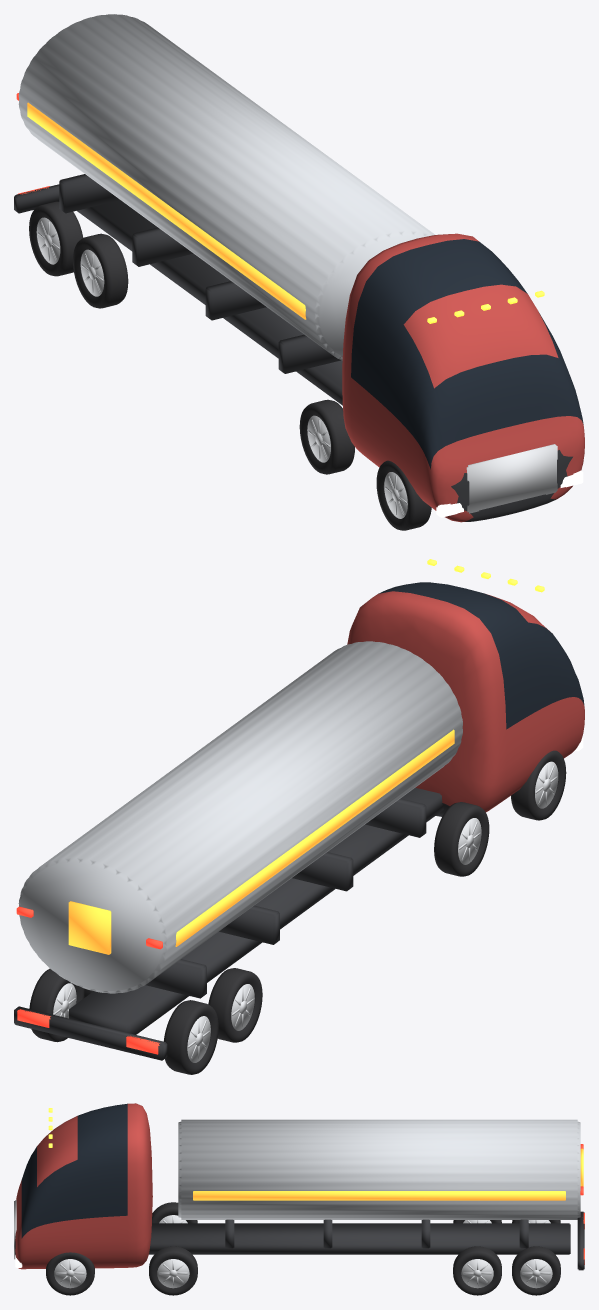
File: traffic_tanker.glb
The picture shows the model from 3 angles, top to bottom: view 1: azimuth 30°, elevation 25°; view 2: azimuth 150°, elevation 25°; view 3: azimuth 270°, elevation 25°; orthographic projection. The views are drawn at different scales.
Visible parts, largest first — view 1: TankerVessel, TruckCab, ChassisFrame, TruckGrille, HazardBandR, WheelTrail1R_Tire, WheelDriveR_Tire, WheelTrail2R_Tire, WheelFR_Tire, Cradle_-1.4, Cradle_0.6, Cradle_2.6 (+6 smaller); view 2: TankerVessel, TruckCab, ChassisFrame, HazardBandR, WheelDriveR_Tire, WheelTrail2R_Tire, RearUnderrun, WheelTrail1R_Tire, HazardRearPlacard, WheelFR_Tire, Cradle_0.6, Cradle_-1.4 (+7 smaller); view 3: TankerVessel, TruckCab, ChassisFrame, HazardBandL, WheelDriveL_Tire, WheelTrail1L_Tire, WheelTrail2L_Tire, WheelFL_Tire, WheelFL_Rim, WheelDriveL_Rim, WheelTrail1L_Rim, WheelTrail2L_Rim (+6 smaller).
Boxes of the visible parts, box(x1,y1,x2,y2) form: TankerVessel: box(18, 14, 434, 360); TruckCab: box(342, 233, 584, 522); ChassisFrame: box(77, 200, 342, 405); TruckGrille: box(466, 444, 557, 513); HazardBandR: box(27, 102, 306, 319); WheelTrail1R_Tire: box(73, 233, 128, 308); WheelDriveR_Tire: box(299, 399, 354, 474); WheelTrail2R_Tire: box(29, 201, 83, 276); WheelFR_Tire: box(376, 460, 431, 530); Cradle_-1.4: box(278, 334, 340, 373); Cradle_0.6: box(205, 281, 266, 320); Cradle_2.6: box(132, 227, 193, 266); TankerVessel: box(18, 641, 462, 993); TruckCab: box(347, 582, 584, 816); ChassisFrame: box(69, 788, 443, 1034); HazardBandR: box(175, 729, 454, 946); WheelDriveR_Tire: box(434, 802, 489, 876); WheelTrail2R_Tire: box(163, 1000, 218, 1074); RearUnderrun: box(14, 1006, 167, 1060); WheelTrail1R_Tire: box(208, 968, 262, 1042); HazardRearPlacard: box(68, 901, 111, 954); WheelFR_Tire: box(511, 750, 566, 820); Cradle_0.6: box(292, 852, 353, 891); Cradle_-1.4: box(365, 798, 426, 837); TankerVessel: box(178, 1119, 580, 1219); TruckCab: box(15, 1103, 152, 1269); ChassisFrame: box(149, 1223, 570, 1254); HazardBandL: box(193, 1191, 565, 1200); WheelDriveL_Tire: box(149, 1246, 197, 1295); WheelTrail1L_Tire: box(453, 1246, 501, 1295); WheelTrail2L_Tire: box(512, 1246, 560, 1295); WheelFL_Tire: box(46, 1252, 94, 1295); WheelFL_Rim: box(54, 1259, 86, 1288); WheelDriveL_Rim: box(157, 1259, 189, 1288); WheelTrail1L_Rim: box(461, 1259, 493, 1288); WheelTrail2L_Rim: box(520, 1259, 552, 1288).
Size of the model in its own units: 2.47 by 3.54 by 11.64.
